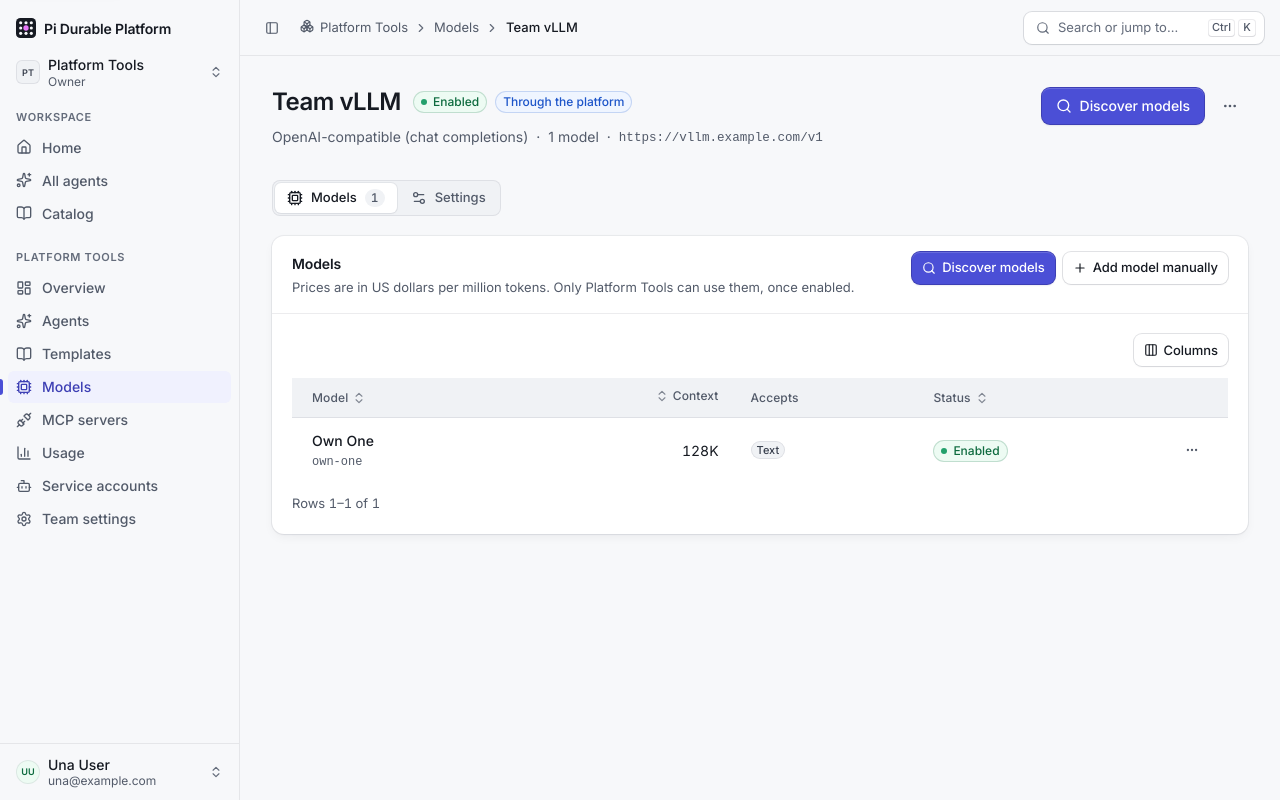
Test: Team › Models › a provider › discovers through the team's route, and the breadcrumb names the provider
The image size is (1280, 800).
Expected: the heading "Team vLLM" is shown, x1=272 y1=88 x2=401 y2=117
Click the button "Discover models" in the row of "Through the platform" at (1123, 106), box x1=1042 y1=88 x2=1204 y2=124
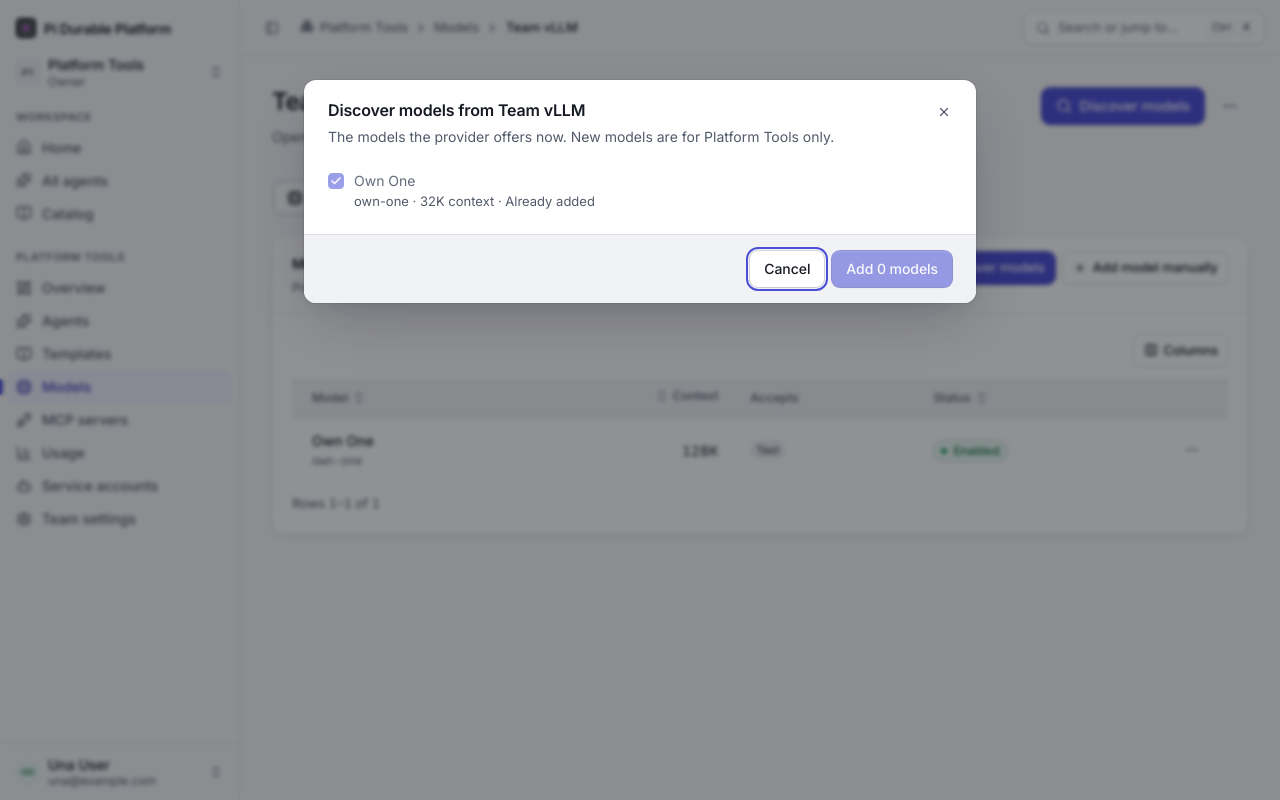
Expected: the text "New models are for Platform Tools only" is shown, x1=328 y1=128 x2=834 y2=145
Expected: the checkbox named "Own One" is checked, x1=328 y1=173 x2=344 y2=189
